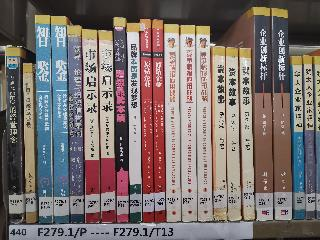book-spine: (271, 9, 293, 222), (252, 7, 273, 222), (162, 23, 182, 223), (4, 45, 26, 226), (35, 15, 54, 223), (51, 16, 70, 224), (81, 29, 101, 224), (148, 19, 167, 224), (66, 24, 85, 224), (195, 25, 214, 222), (98, 30, 116, 223), (127, 23, 144, 225), (181, 25, 198, 223), (210, 46, 229, 222), (139, 19, 155, 225), (113, 18, 129, 223), (238, 48, 255, 222), (225, 47, 241, 223), (21, 63, 38, 225), (301, 54, 317, 220), (290, 56, 305, 220)
